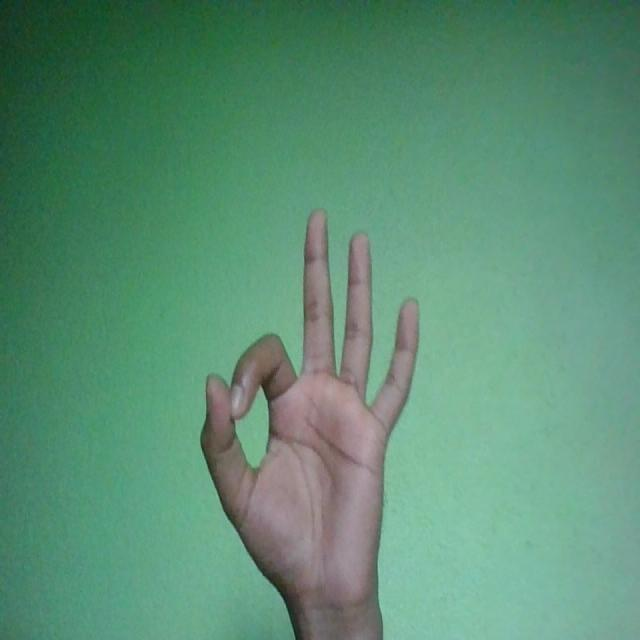Rock On: (200, 209, 421, 619)
